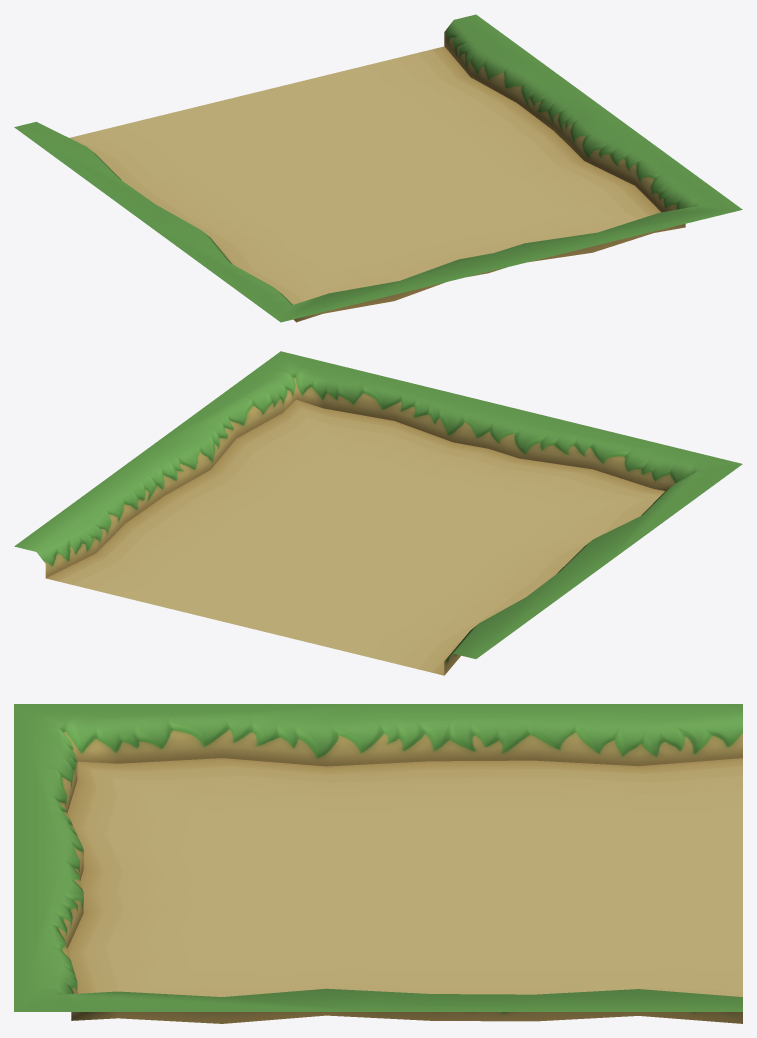
Rendered from Tile06.FBX.
3 views of the same model, one above another, from view 1: azimuth 30°, elevation 25°; view 2: azimuth 150°, elevation 25°; view 3: azimuth 270°, elevation 25° (orthographic). The views are drawn at different scales.
Visible parts, largest first — view 1: Tile06; view 2: Tile06; view 3: Tile06.
Part boxes in pixels (bbox=[...]): Tile06: bbox=[14, 14, 742, 322]; Tile06: bbox=[14, 351, 742, 675]; Tile06: bbox=[14, 704, 742, 1023].
Size of the model in its own units: 500 by 25 by 500.
